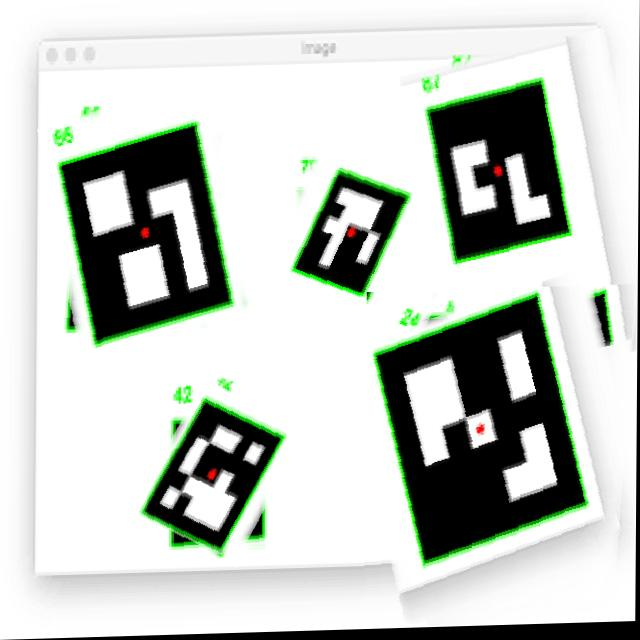aruco: (365, 288, 638, 631), (413, 39, 640, 387), (50, 86, 263, 361), (254, 163, 463, 390), (148, 381, 301, 562)
